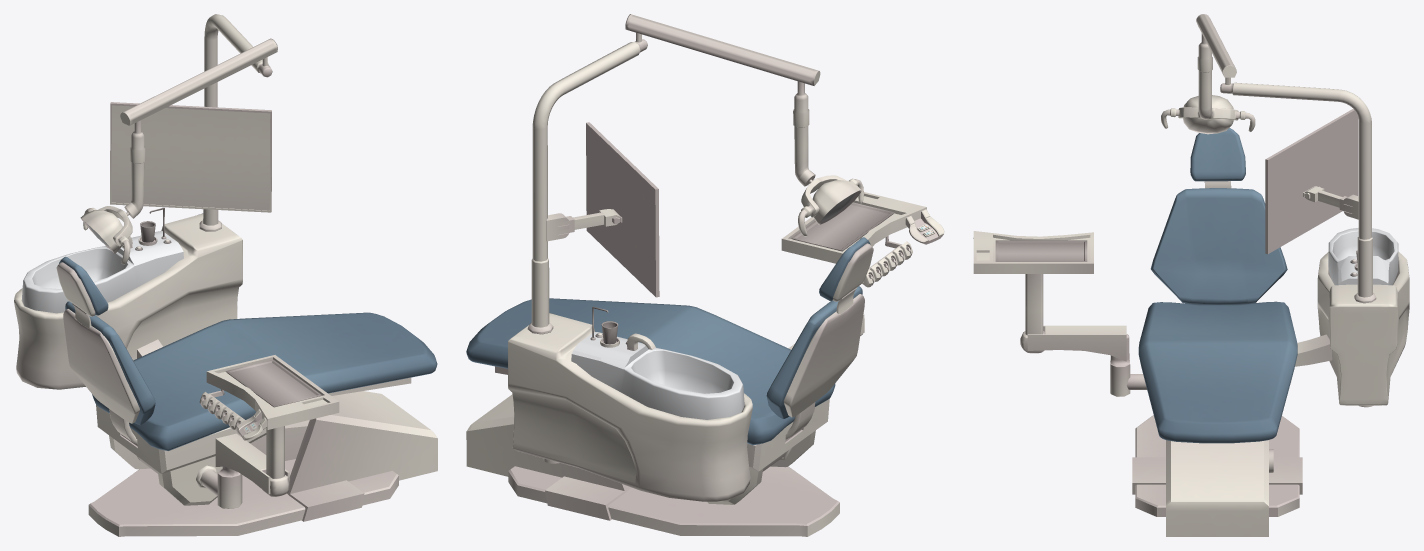
The model's file is dental_unit_model.fbx.
3 views of the same model, side by side, from view 1: azimuth 30°, elevation 25°; view 2: azimuth 150°, elevation 25°; view 3: azimuth 270°, elevation 25° (orthographic). The views are drawn at different scales.
Visible parts, largest first — view 1: base, seat, tv, pasted__pCube47, sink, backrest, polySurface1, pCube47, light, tray, post, unit (+12 smaller); view 2: pasted__pCube47, base, seat, sink, tv, post, backrest, light, polySurface1, tray, pCube12, pCube47 (+9 smaller); view 3: seat, base, pCube12, pasted__pCube47, tv, post, polySurface1, sink, mounted_holder, pCube13, tray, pCylinder7 (+6 smaller).
Part boxes in pixels (<box>): base: <box>88,391,437,536</box>; seat: <box>92,312,437,450</box>; tv: <box>110,102,271,212</box>; pasted__pCube47: <box>14,213,242,389</box>; sink: <box>22,231,183,313</box>; backrest: <box>63,309,139,444</box>; polySurface1: <box>206,355,339,429</box>; pCube47: <box>96,377,411,473</box>; light: <box>120,38,277,125</box>; tray: <box>225,359,321,407</box>; post: <box>199,14,272,231</box>; unit: <box>109,435,222,505</box>; pasted__pCube47: <box>508,313,752,501</box>; base: <box>466,394,839,536</box>; seat: <box>466,298,835,445</box>; sink: <box>571,331,744,419</box>; tv: <box>586,122,659,297</box>; post: <box>527,32,647,334</box>; backrest: <box>783,294,864,439</box>; light: <box>625,14,820,85</box>; polySurface1: <box>781,192,926,263</box>; tray: <box>791,202,894,251</box>; pCube12: <box>766,286,862,418</box>; pCube47: <box>495,366,829,471</box>; seat: <box>1138,301,1297,443</box>; base: <box>1132,415,1302,536</box>; pCube12: <box>1150,188,1287,304</box>; pasted__pCube47: <box>1317,251,1409,405</box>; tv: <box>1265,108,1358,254</box>; post: <box>1220,77,1376,303</box>; polySurface1: <box>973,231,1093,273</box>; sink: <box>1328,228,1398,285</box>; mounted_holder: <box>1027,325,1126,361</box>; pCube13: <box>1190,128,1245,181</box>; tray: <box>995,240,1087,261</box>; pCylinder7: <box>1020,274,1044,353</box>.
Size of the model in its own units: 166 by 198 by 190.
